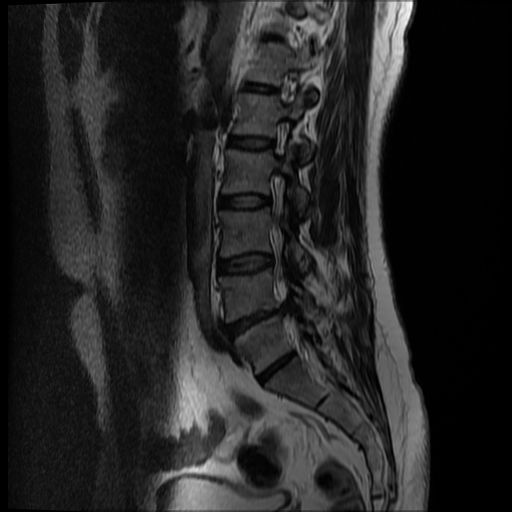LFS0: (260, 109, 298, 162)
